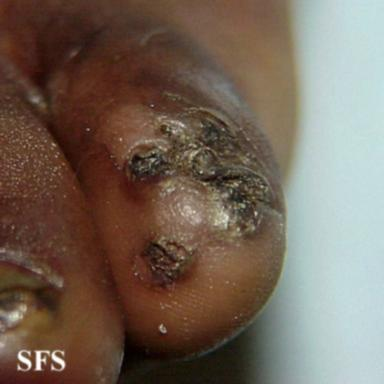Tungiasis: (122, 91, 269, 247), (139, 238, 196, 289), (157, 323, 167, 335)
